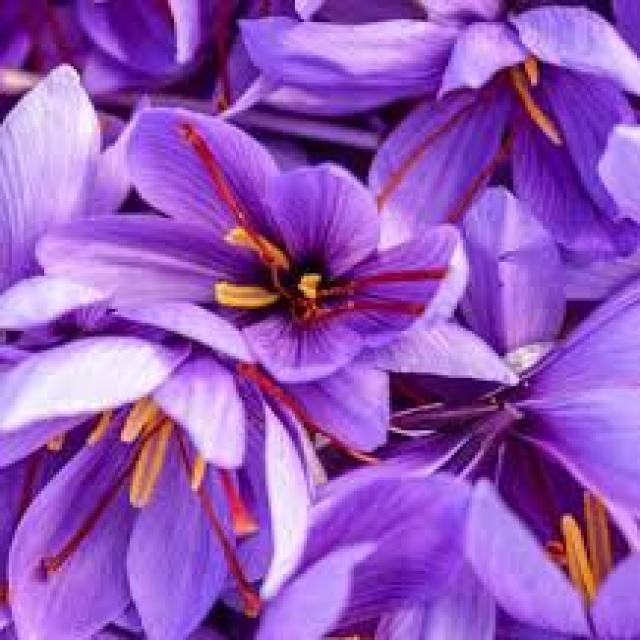Flower: (50, 96, 507, 390), (3, 346, 340, 634), (233, 0, 640, 232)
stigma: (118, 378, 265, 617), (210, 210, 452, 354), (497, 28, 578, 148), (526, 502, 610, 612)
